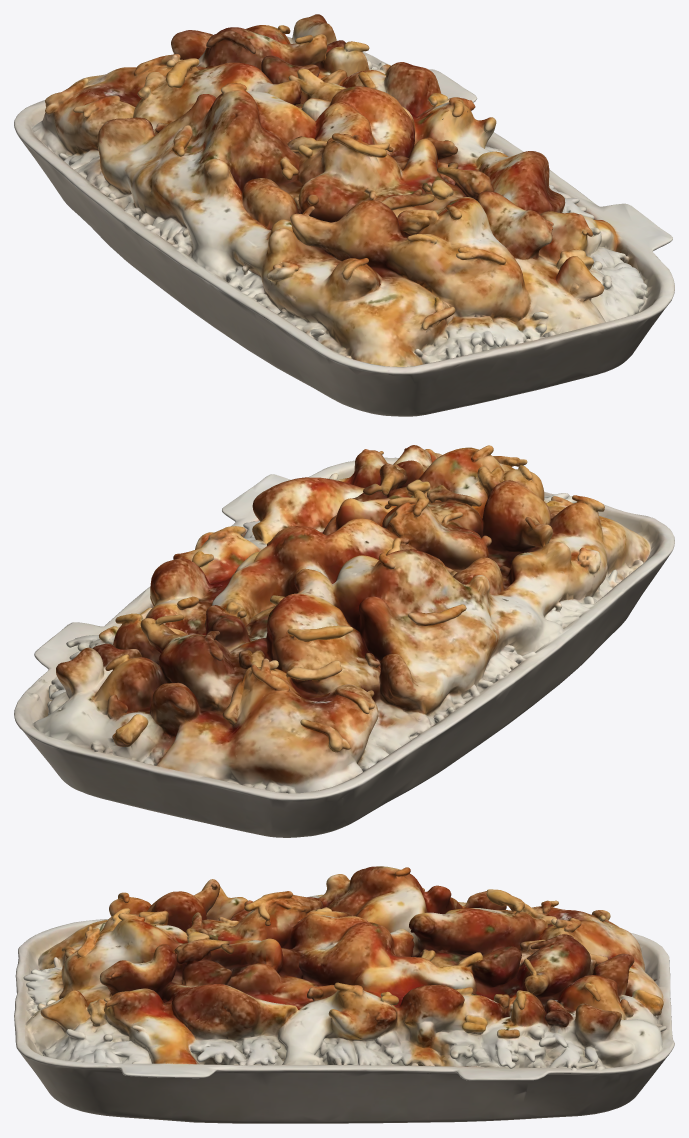
Rendered from le-crousty.glb.
3 renders of one model, top to bottom at view 1: azimuth 30°, elevation 25°; view 2: azimuth 150°, elevation 25°; view 3: azimuth 270°, elevation 25°, orthographic. The views are drawn at different scales.
Parts seen in each view (by area): view 1: tripo_node_aa2befea-ac31-472c-bbad-2293bbd63b48; view 2: tripo_node_aa2befea-ac31-472c-bbad-2293bbd63b48; view 3: tripo_node_aa2befea-ac31-472c-bbad-2293bbd63b48.
Boxes of the visible parts, x1,y1,x2,y2 form: tripo_node_aa2befea-ac31-472c-bbad-2293bbd63b48: [14, 14, 674, 416]; tripo_node_aa2befea-ac31-472c-bbad-2293bbd63b48: [14, 445, 674, 837]; tripo_node_aa2befea-ac31-472c-bbad-2293bbd63b48: [14, 866, 674, 1123].
Bounding box in the file's own units: 0.595 × 0.2609 × 0.9999.
1 material, 1 textured.
